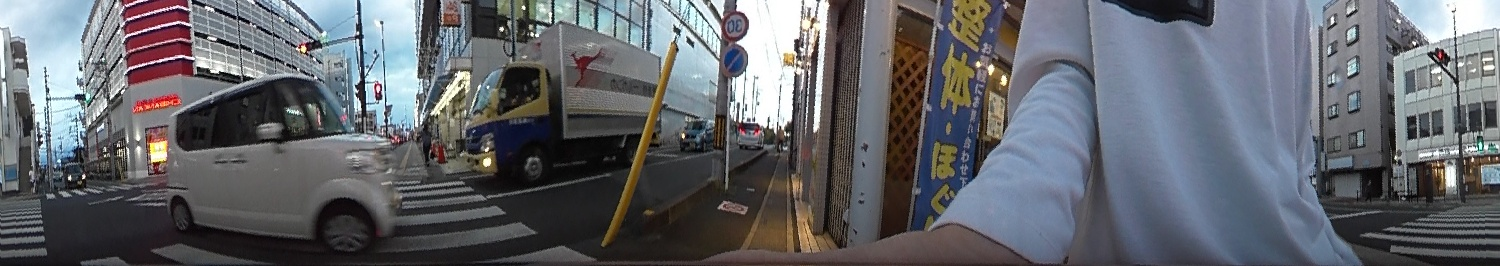difficult_person: (414, 115, 434, 172), (774, 124, 785, 148)
